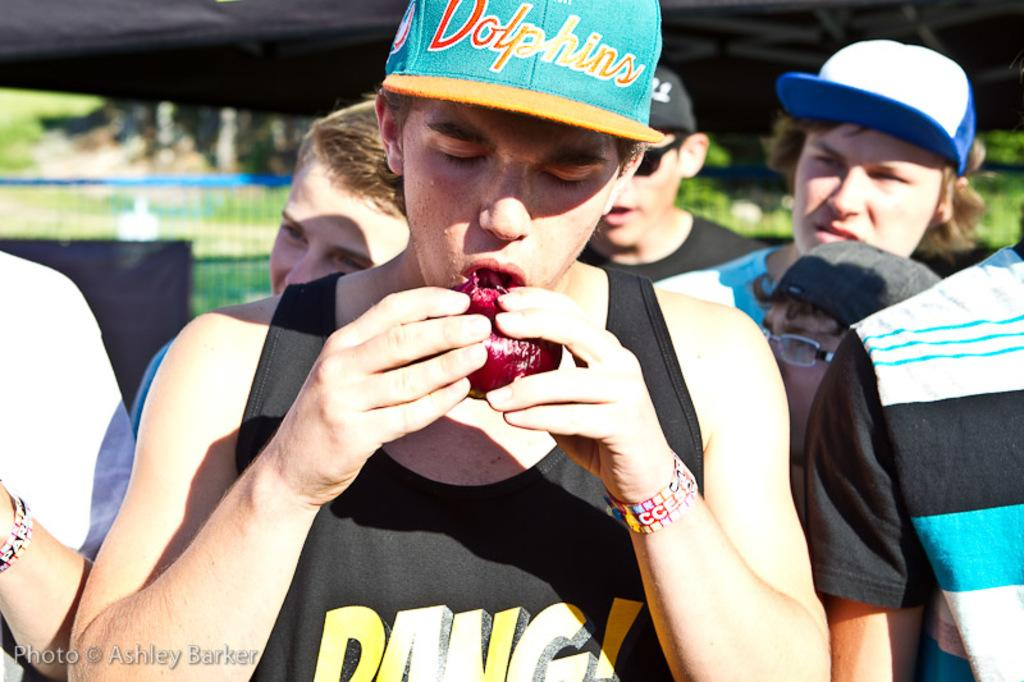Hat: (382, 0, 669, 148), (776, 39, 976, 176)
